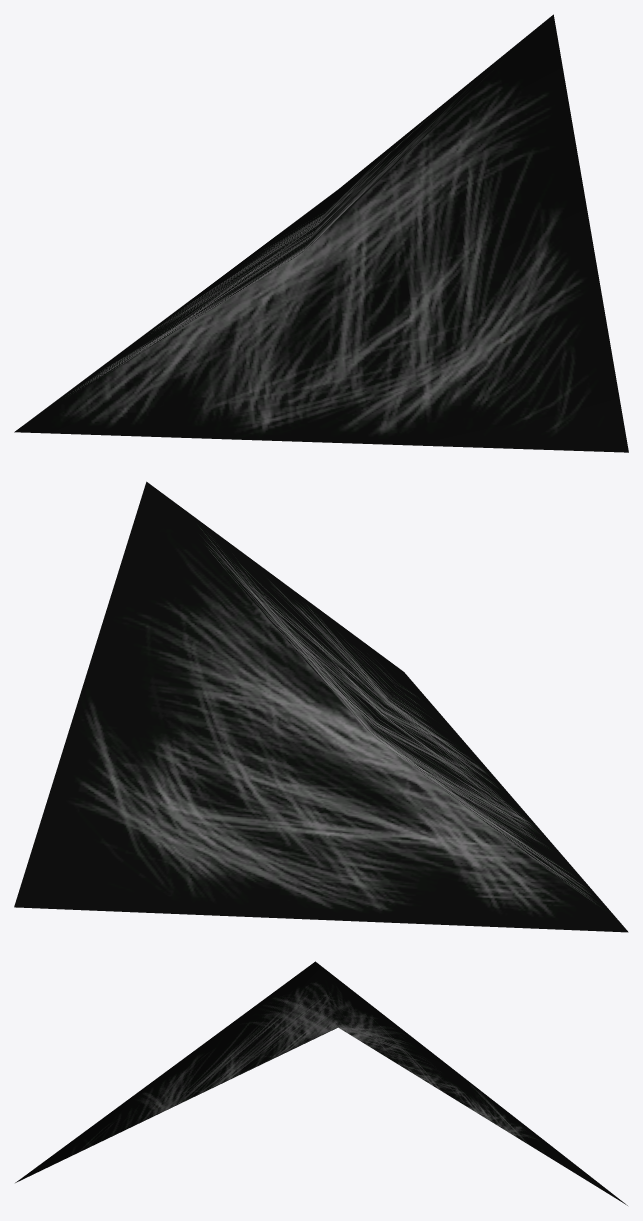
File: EKH_GROTTO_PS_GR_CORNER_WEB__NC04.fbx
The picture shows the model from 3 angles, top to bottom: view 1: azimuth 30°, elevation 25°; view 2: azimuth 150°, elevation 25°; view 3: azimuth 270°, elevation 25°; orthographic projection. The views are drawn at different scales.
Visible parts, largest first — view 1: EKH_GROTTO_PS_GR_CORNER_WEB__NC04; view 2: EKH_GROTTO_PS_GR_CORNER_WEB__NC04; view 3: EKH_GROTTO_PS_GR_CORNER_WEB__NC04.
Part boxes in pixels (x1,y1,x2,y2): EKH_GROTTO_PS_GR_CORNER_WEB__NC04: (14, 14, 628, 452); EKH_GROTTO_PS_GR_CORNER_WEB__NC04: (14, 481, 628, 932); EKH_GROTTO_PS_GR_CORNER_WEB__NC04: (15, 961, 627, 1205).
Size of the model in its own units: 24100 by 13968 by 27829.
1 material, 1 textured.
